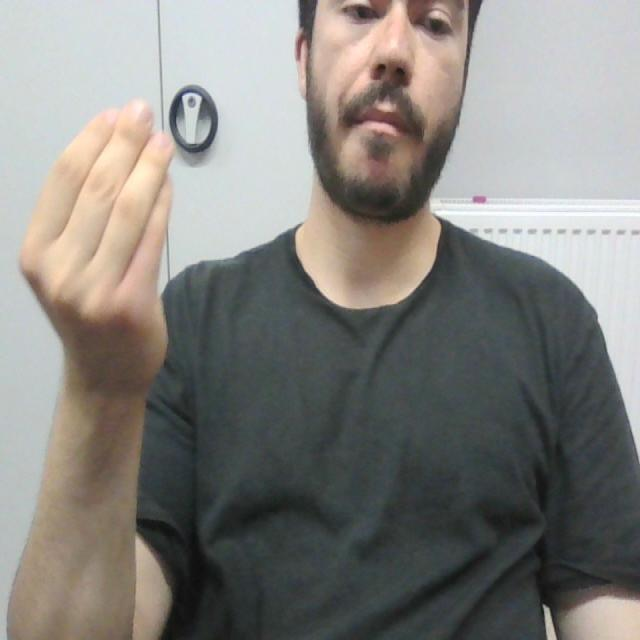iyi: (27, 94, 181, 328)
